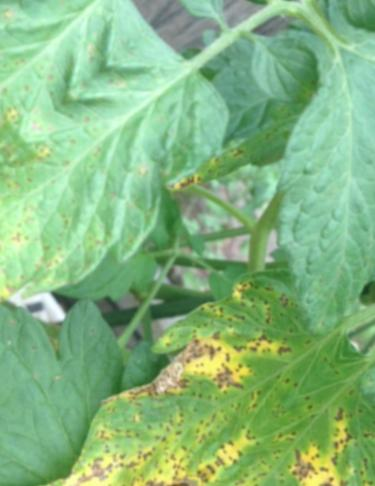Tomato Septoria leaf spot: (0, 22, 270, 390), (37, 238, 362, 486)
